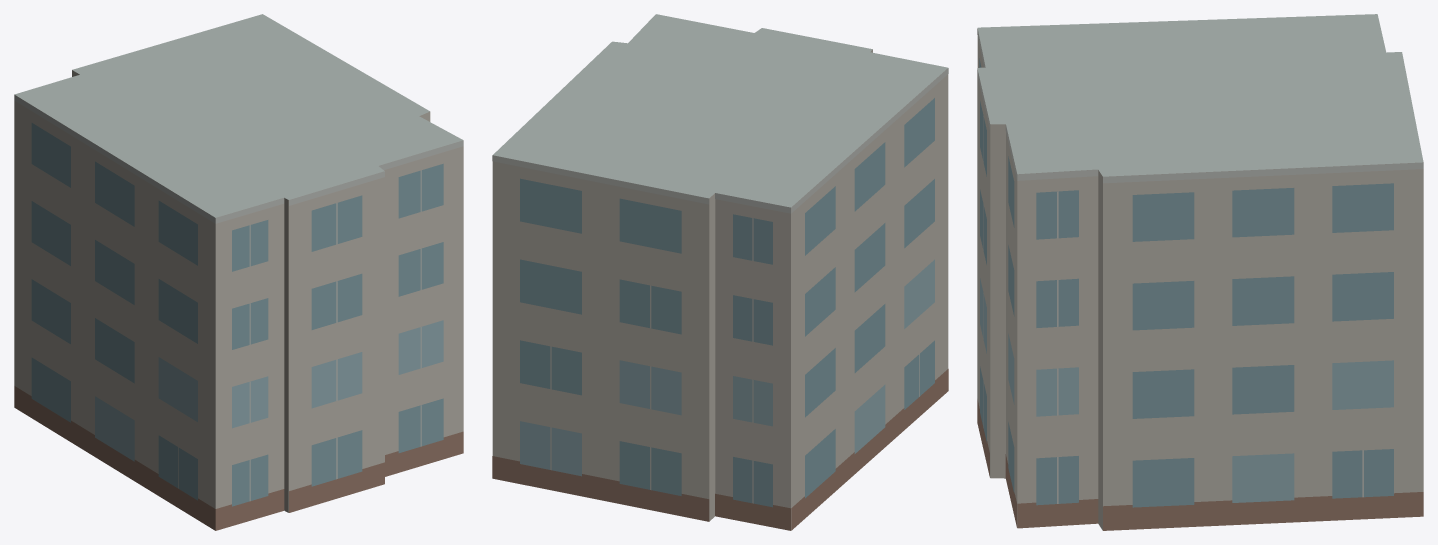
File: survey-upis-32949877.glb
The picture shows the model from 3 angles, left to right: view 1: azimuth 30°, elevation 25°; view 2: azimuth 150°, elevation 25°; view 3: azimuth 270°, elevation 25°; orthographic projection. The views are drawn at different scales.
Visible parts, largest first — view 1: survey-upis-32949877.tmp; view 2: survey-upis-32949877.tmp; view 3: survey-upis-32949877.tmp.
Boxes of the visible parts, x1,y1,x2,y2 form: survey-upis-32949877.tmp: (14,14,463,530); survey-upis-32949877.tmp: (492,14,948,530); survey-upis-32949877.tmp: (977,14,1423,530).
Bounding box in the file's own units: 12.67 × 12.85 × 14.69.
